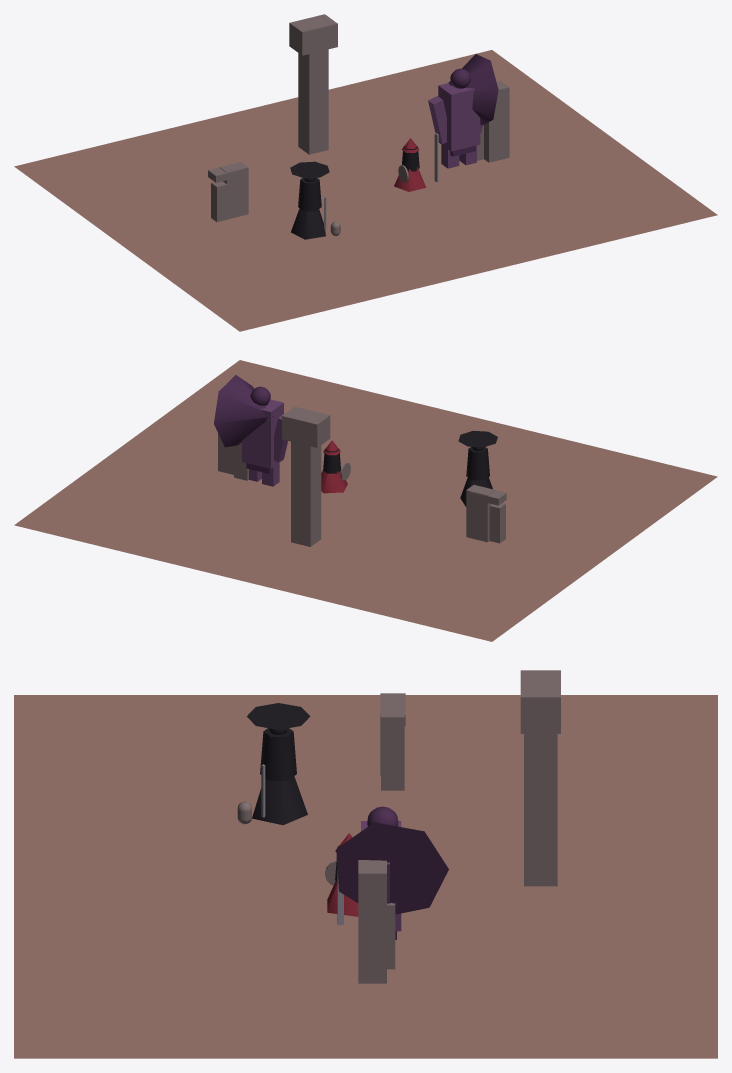
File: fluid-study-static-diorama-v1.glb
3 renders of one model, top to bottom at view 1: azimuth 30°, elevation 25°; view 2: azimuth 150°, elevation 25°; view 3: azimuth 270°, elevation 25°, orthographic. The views are drawn at different scales.
Visible parts, largest first — view 1: Floor, Violet giant, Tower base, Dark wanderer and companion, Tower cap, East wall tall, Red fighter, West ruin left, West ruin right; view 2: Floor, Violet giant, Tower base, Tower cap, Dark wanderer and companion, West ruin left, Red fighter, West ruin right, East wall tall; view 3: Floor, Violet giant, Dark wanderer and companion, Tower base, East wall tall, Tower cap, West ruin left, Red fighter.
Boxes of the visible parts, x1,y1,x2,y2 form: Floor: (14, 50, 717, 331); Violet giant: (428, 54, 498, 168); Tower base: (298, 49, 328, 154); Dark wanderer and companion: (290, 161, 340, 239); Tower cap: (289, 14, 337, 55); East wall tall: (484, 80, 509, 162); Red fighter: (394, 133, 438, 191); West ruin left: (219, 162, 248, 218); West ruin right: (211, 181, 228, 222); Floor: (14, 360, 717, 641); Violet giant: (214, 375, 287, 486); Tower base: (291, 441, 321, 546); Tower cap: (282, 406, 330, 447); Dark wanderer and companion: (458, 430, 497, 506); West ruin left: (466, 485, 495, 542); Red fighter: (321, 440, 350, 493); West ruin right: (489, 503, 505, 543); East wall tall: (218, 433, 233, 474); Floor: (14, 695, 717, 1058); Violet giant: (336, 806, 448, 939); Dark wanderer and companion: (237, 703, 310, 825); Tower base: (524, 734, 557, 886); East wall tall: (358, 860, 386, 983); Tower cap: (520, 670, 560, 733); West ruin left: (381, 701, 404, 790); Red fighter: (325, 833, 358, 925).
Bounding box in the file's own units: 25.58 × 7.2 × 20.92.
